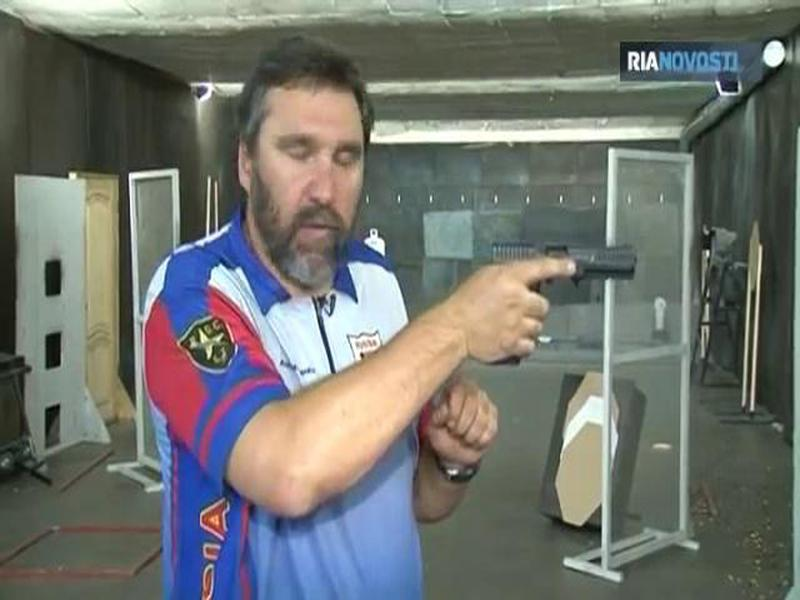Pistola: (467, 231, 647, 371)
